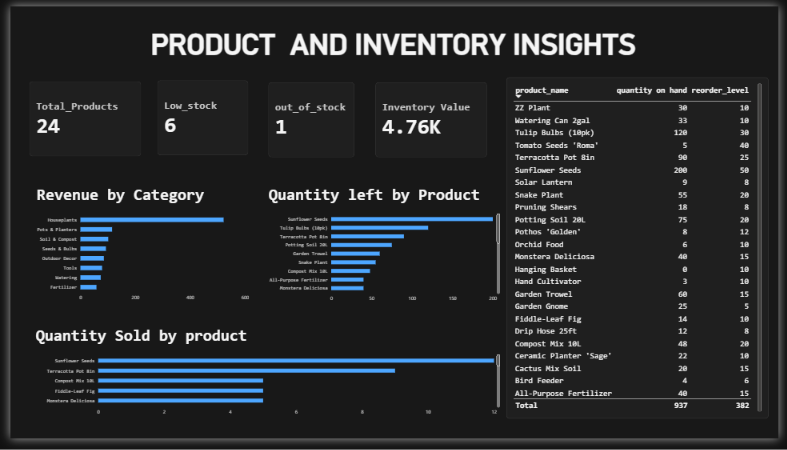

Layout of this report page (visuals, bound fields, positions):
{"tool":"powerbi","page":{"name":"Product&Inventory Insights","canvas":[1920,1080],"ordinal":2},"visuals":[{"type":"cardVisual","fields":{"Data":["ecommerce_analysis products.Total_Products"]},"box":[48.3,187.1,279.6,187.8],"z":0},{"type":"cardVisual","fields":{"Data":["ecommerce_analysis products.Inventory Value"]},"box":[912.5,190,279.6,187.8],"z":1000},{"type":"cardVisual","fields":{"Data":["ecommerce_analysis products.Low_stock"]},"box":[367.5,185,227.5,187.5],"z":2000},{"type":"cardVisual","fields":{"Data":["ecommerce_analysis products.out_of_stock"]},"box":[645,190,215,187.5],"z":3000},{"type":"clusteredBarChart","title":"Revenue by Category","fields":{"Category":["ecommerce_analysis categories.category_name"],"Y":["ecommerce_analysis orders.Total_Revenue"]},"box":[50,432.5,562.5,325],"z":4000},{"type":"clusteredBarChart","title":"Quantity left by Product","fields":{"Category":["ecommerce_analysis products.product_name"],"Y":["Sum(ecommerce_analysis products.quantity_on_hand)"]},"box":[630,432.5,610,326],"z":5000},{"type":"clusteredBarChart","title":"Quantity Sold by product","fields":{"Category":["ecommerce_analysis products.product_name"],"Y":["ecommerce_analysis orders.Total Quantity Sold"]},"box":[47.5,785,1192.5,257.5],"z":6000},{"type":"tableEx","fields":{"Values":["ecommerce_analysis products.product_name","Sum(ecommerce_analysis products.quantity_on_hand)","Sum(ecommerce_analysis products.reorder_level)"]},"box":[1240,177.5,655,852.5],"z":7000},{"type":"textbox","box":[261.2,53.1,1393.9,85.7],"z":8000}]}

Visuals, with their boxes in screenshot pixels (x1, y1, x2, y2), scaled from the page's 1920x1080 canvas onto the 787x450 screenshot:
cardVisual - ecommerce_analysis products.Total_Products: [20,78,134,156]
cardVisual - ecommerce_analysis products.Inventory Value: [374,79,489,157]
cardVisual - ecommerce_analysis products.Low_stock: [151,77,244,155]
cardVisual - ecommerce_analysis products.out_of_stock: [264,79,353,157]
"Revenue by Category" clusteredBarChart: [20,180,251,316]
"Quantity left by Product" clusteredBarChart: [258,180,508,316]
"Quantity Sold by product" clusteredBarChart: [19,327,508,434]
tableEx - ecommerce_analysis products.product_name x Sum(ecommerce_analysis products.quantity_on_hand): [508,74,777,429]
textbox: [107,22,678,58]
